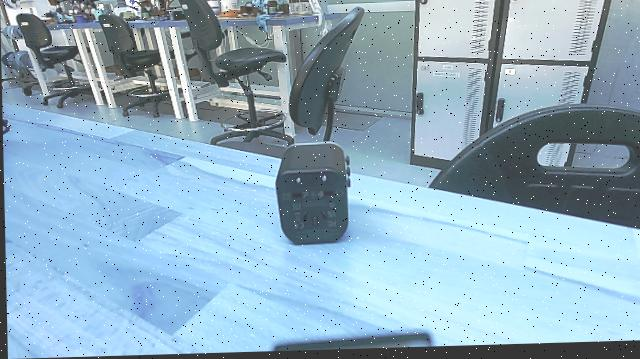adapter: (263, 141, 364, 253)
